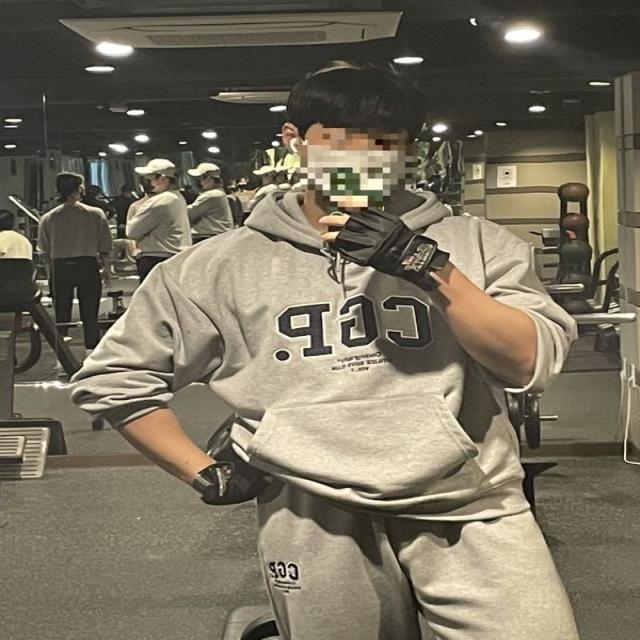hoodies: (83, 183, 576, 525)
trainingpants: (210, 458, 595, 639)
